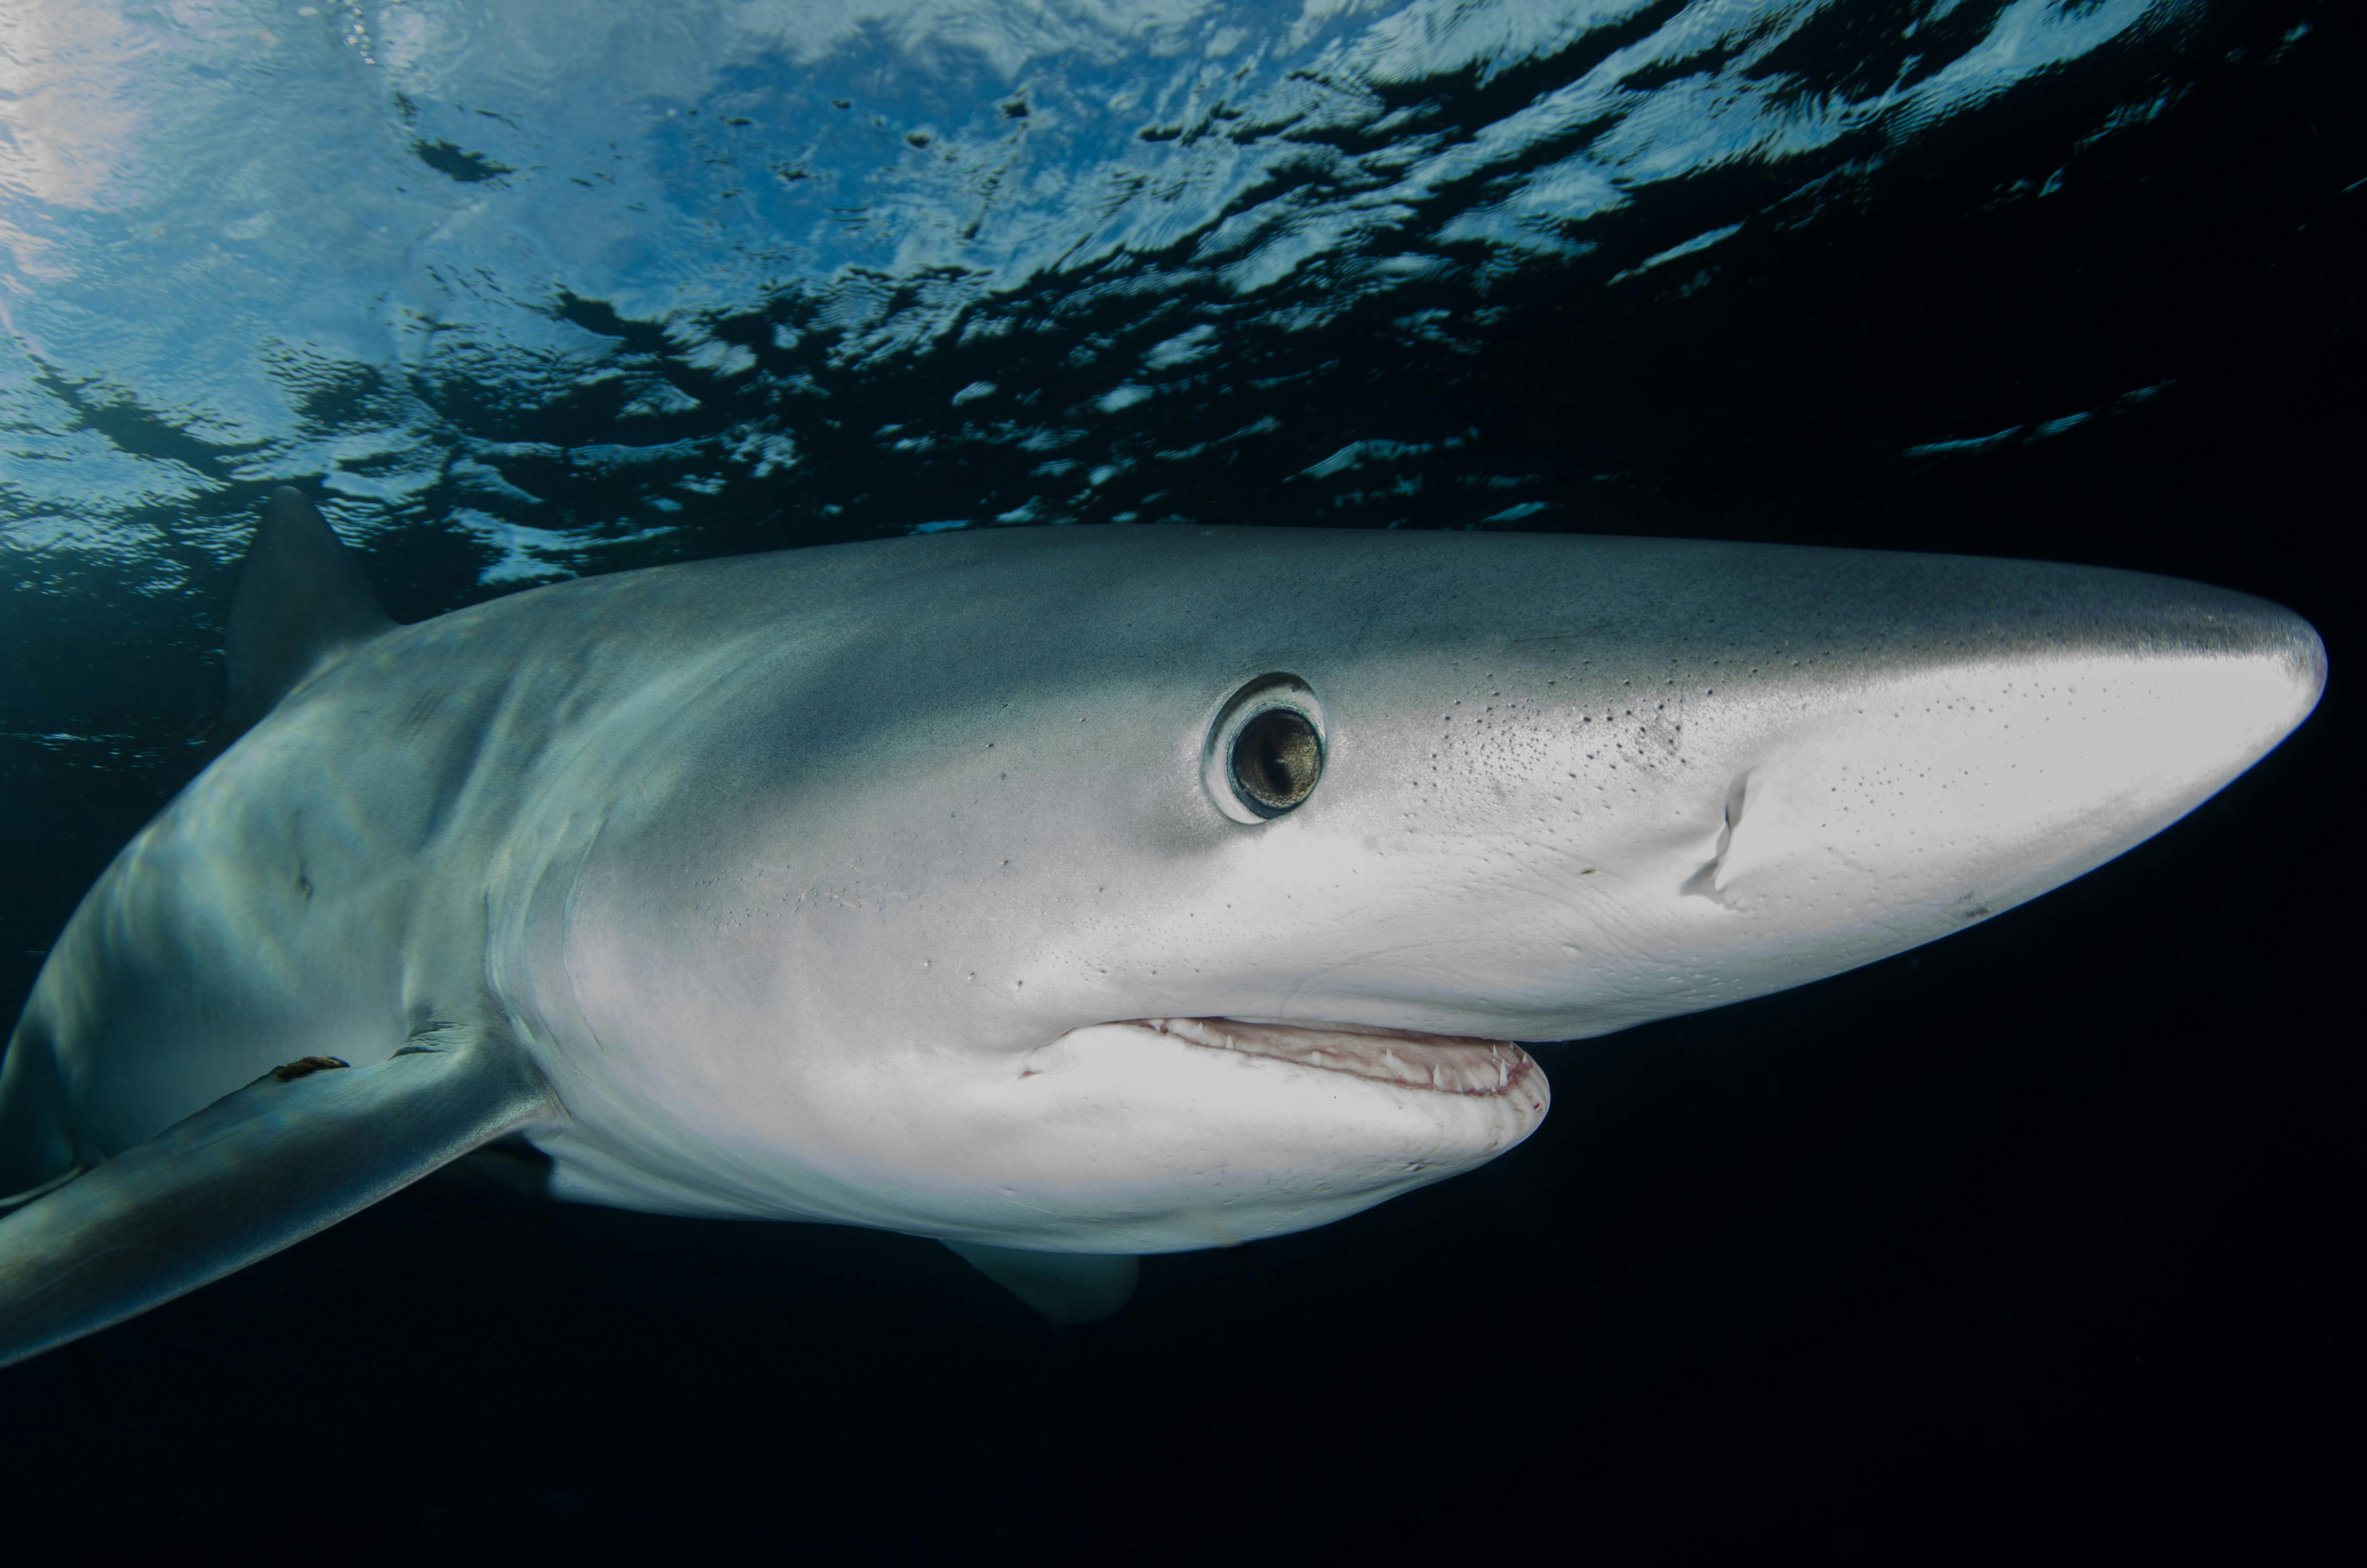shark: (0, 472, 2330, 1375)
